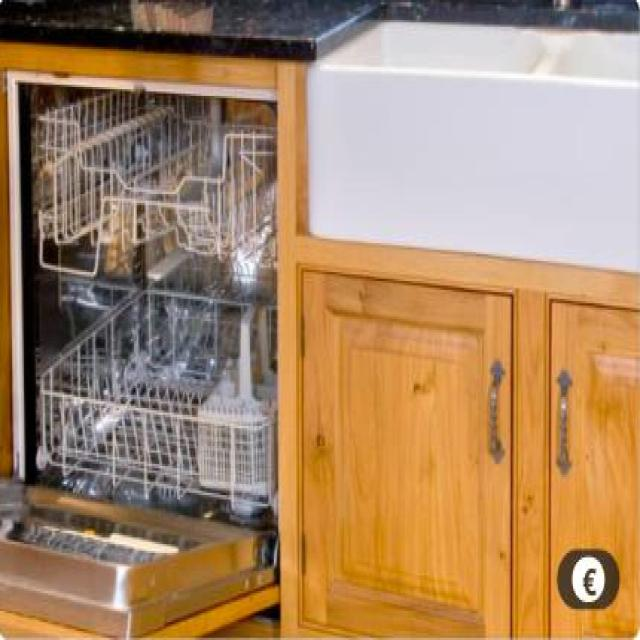dishwasher: (1, 45, 283, 638)
